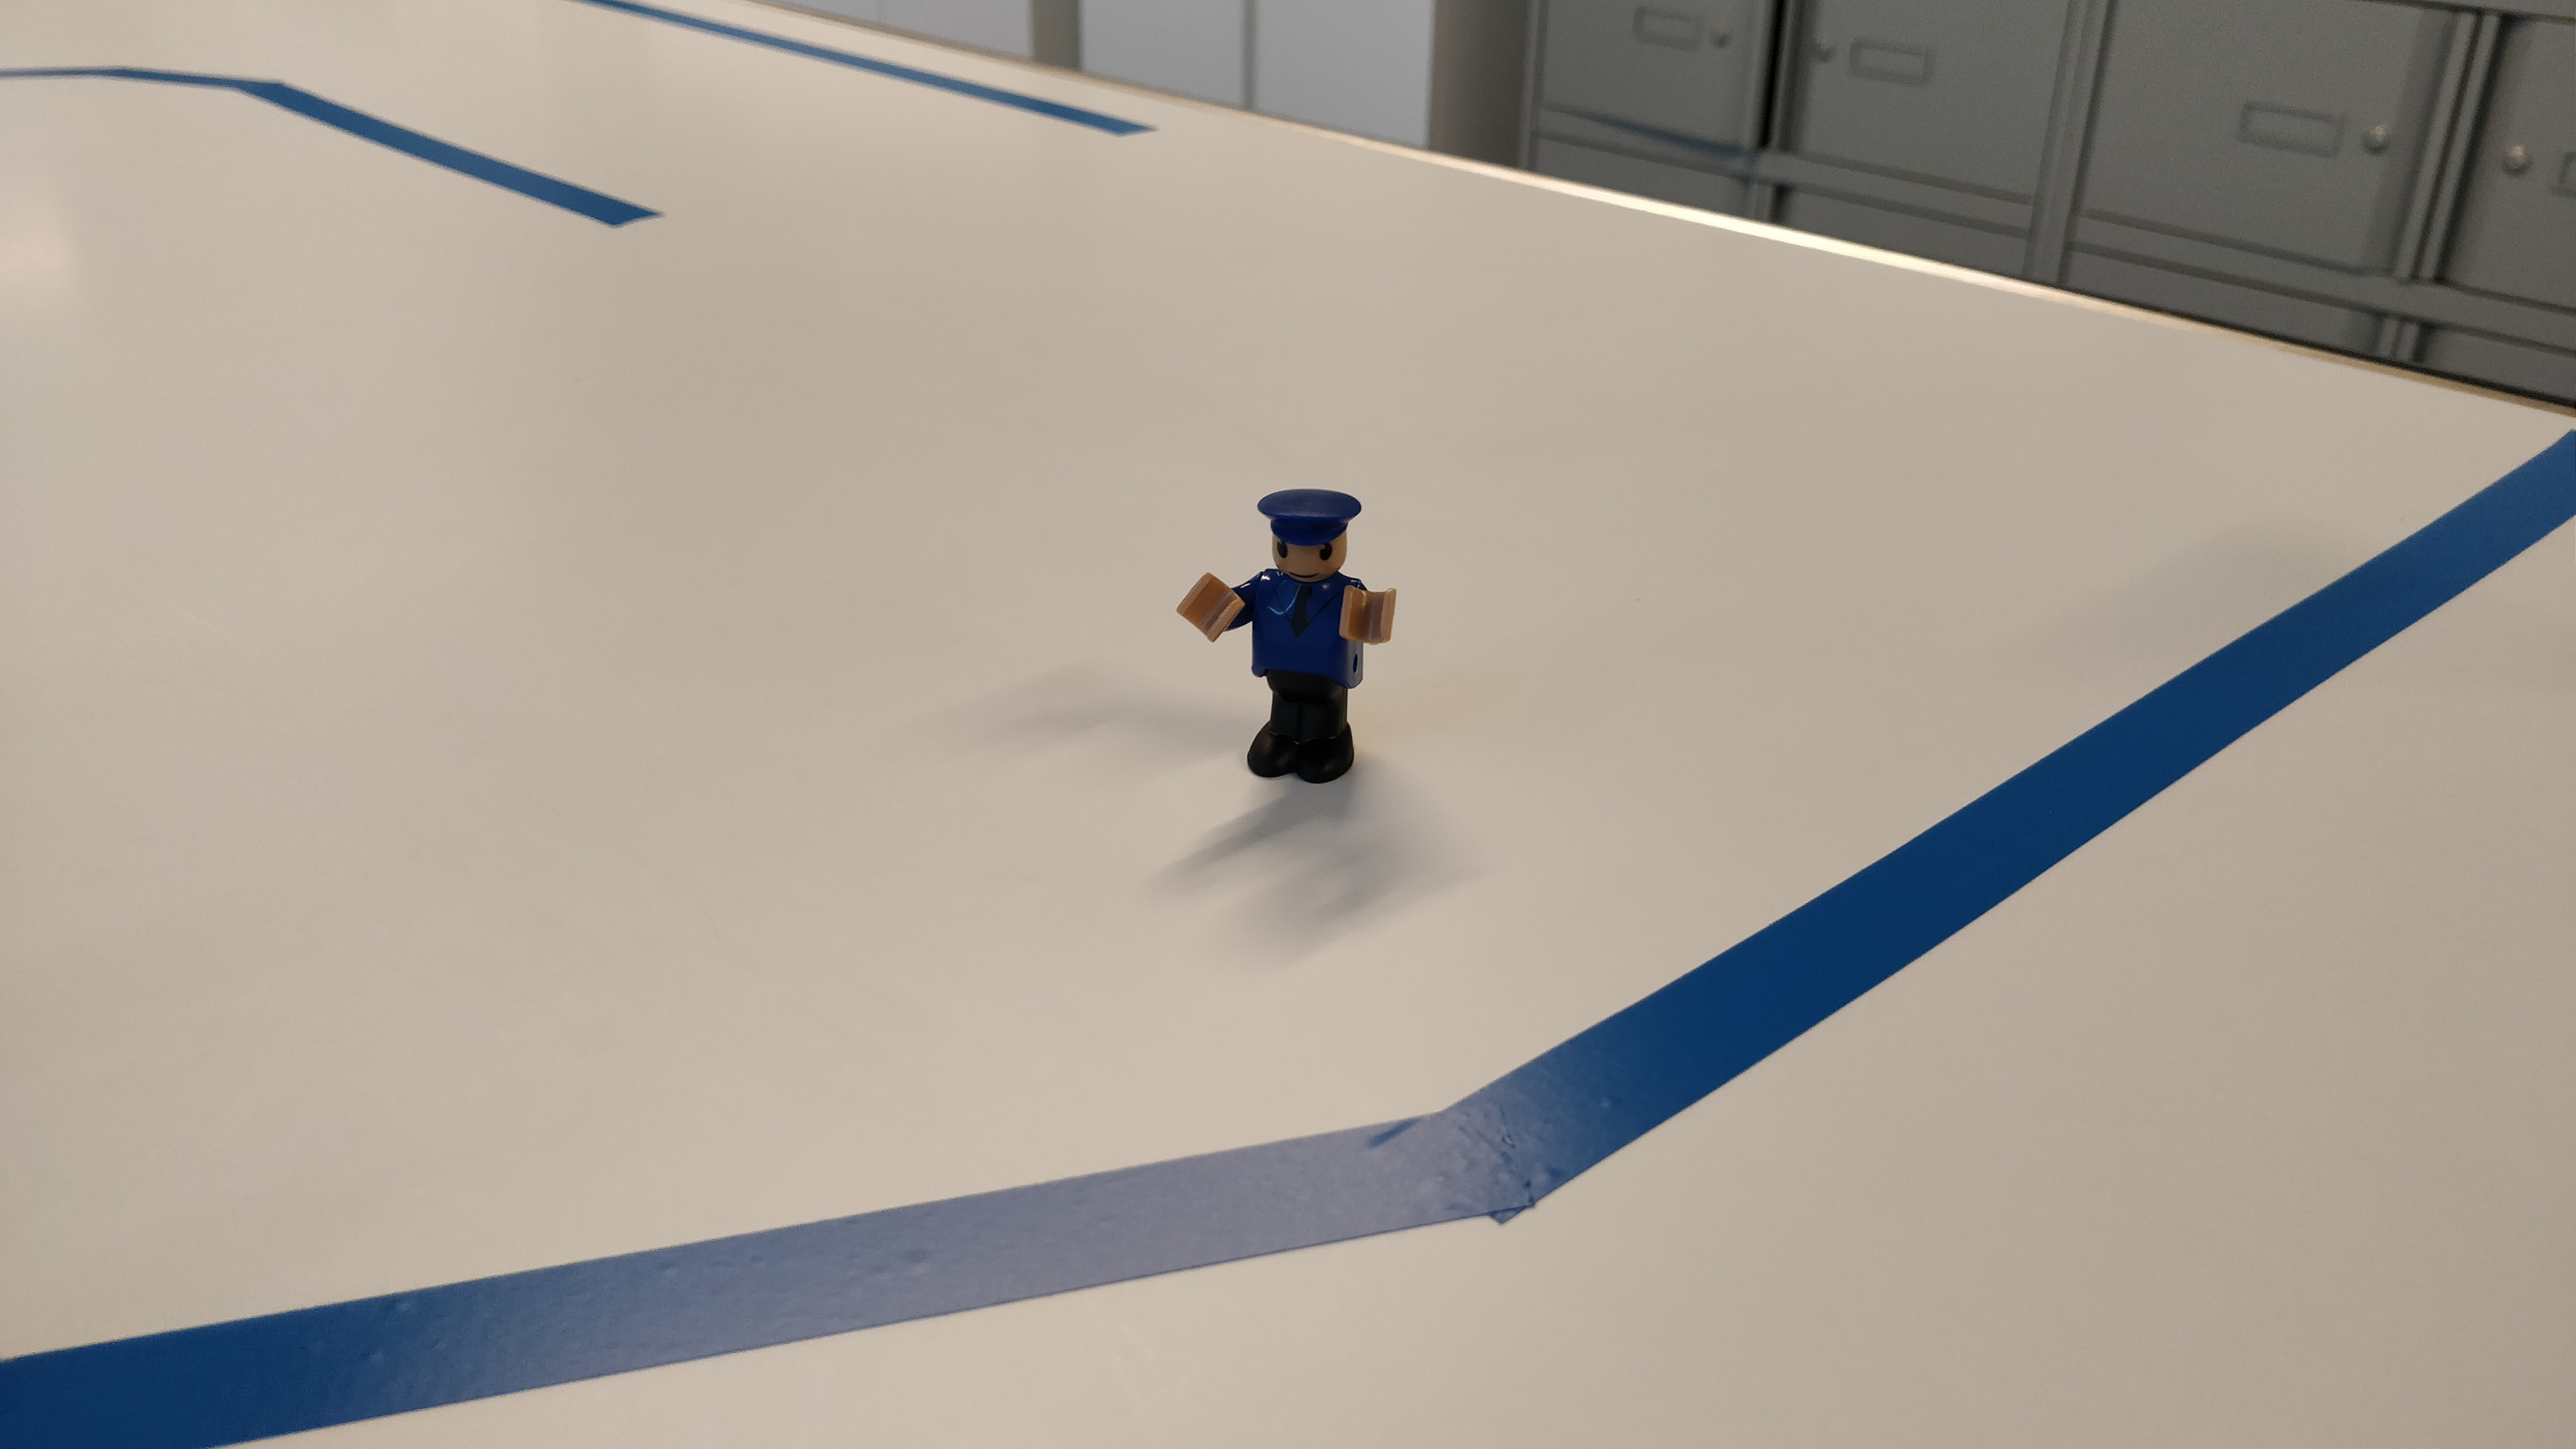Person: (1167, 481, 1408, 791)
